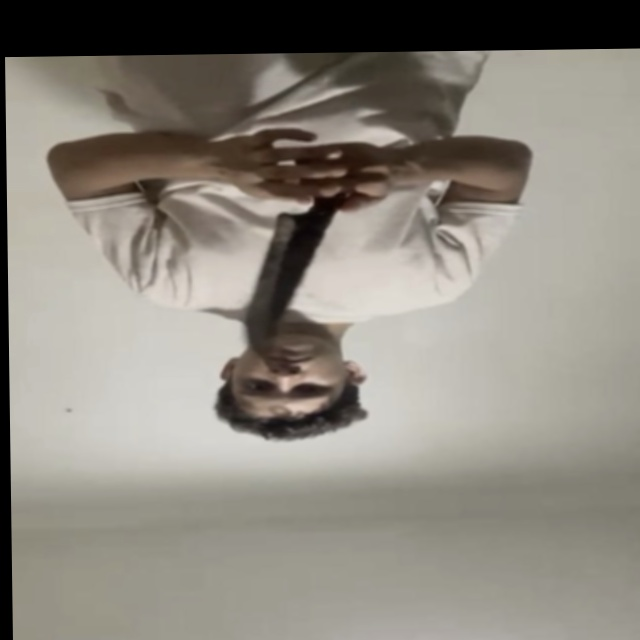Sharp-Object: (240, 210, 321, 357)
